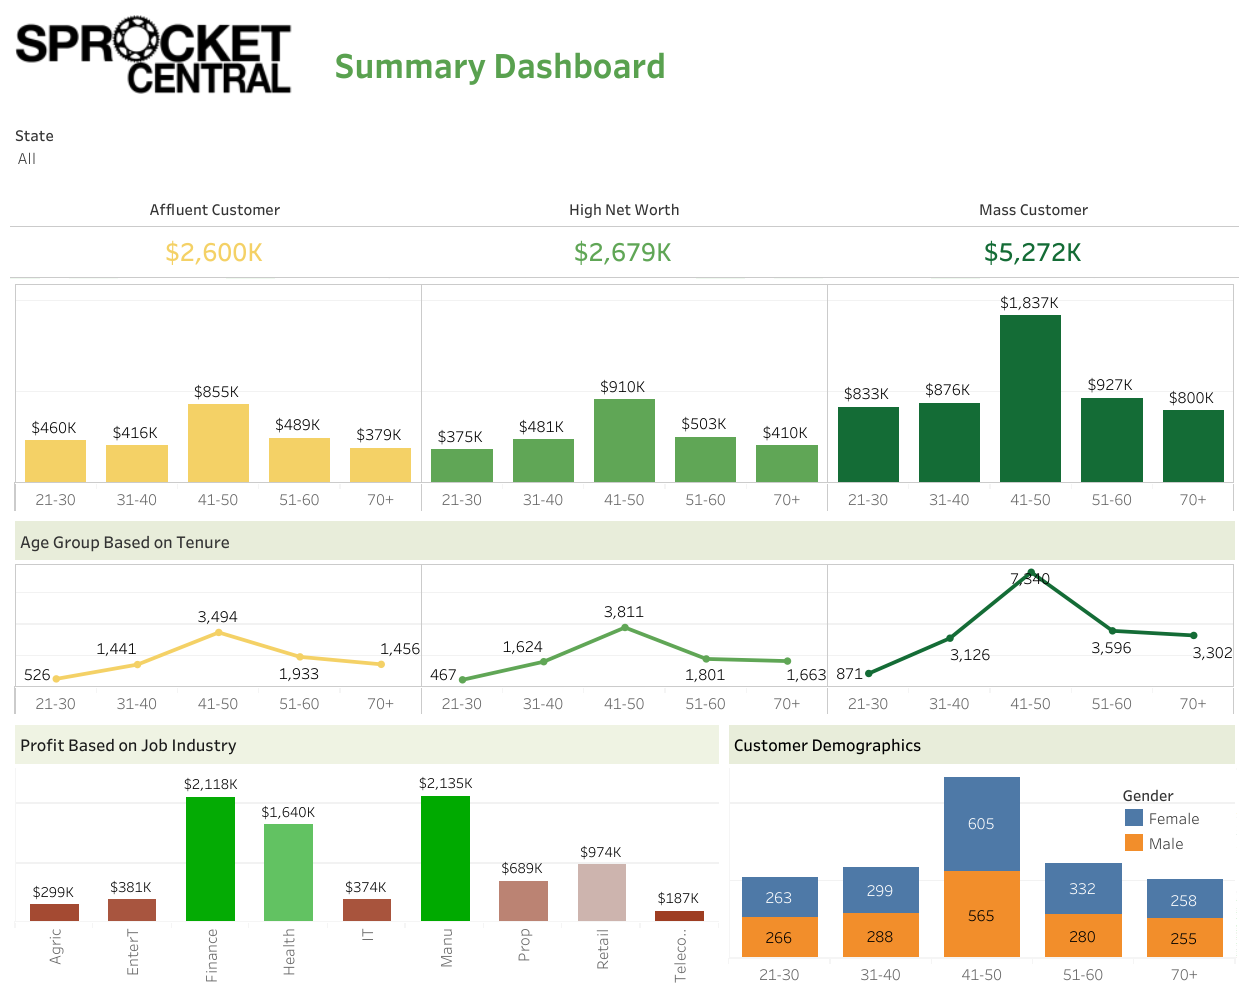

The page's visual inventory and layout, read from the dashboard file:
{"tool":"tableau","page":{"name":"Profit Segment","canvas":[1000,800],"ordinal":0},"visuals":[{"type":"image","param":"Image/sprocket_central_logo.png","box":[8,8,253,86]},{"type":"text","box":[261,8,731,86]},{"type":"filter","title":"Age_Profit","param":"[federated.0kwn4gu1na7a9k17bu9hw1k1b898].[none:state:nk]","box":[8,94,984,59]},{"type":"worksheet","title":"Profit_wealth_segment","mark":"Automatic","cols":["wealth_segment"],"box":[8,153,984,70]},{"type":"worksheet","title":"Age_Profit","mark":"Automatic","rows":["margin_gain"],"cols":["wealth_segment","Calculation_26177195680997376"],"box":[8,223,984,190]},{"type":"worksheet","title":"Age_tenure","mark":"Line","rows":["tenure"],"cols":["wealth_segment","Calculation_26177195680997376"],"box":[8,413,984,163.1]},{"type":"worksheet","title":"Job industry Profit","mark":"Bar","rows":["margin_gain"],"cols":["job_industry_category"],"box":[8,576.1,571,215.9]},{"type":"worksheet","title":"demographic","mark":"Automatic","rows":["Sheet1_8753D7713A3C4724B38272F5CA843F65"],"cols":["Calculation_26177195680997376"],"box":[579,576.1,413,215.9]},{"type":"legend","title":"demographic","param":"[federated.0kwn4gu1na7a9k17bu9hw1k1b898].[none:gender:nk]","box":[897,625,91,64]}]}

Visuals, with their boxes in screenshot pixels (x1, y1, x2, y2), scaled from the page's 1000x800 canvas onto the 1249x999 screenshot:
image: bbox=(10, 10, 326, 117)
text: bbox=(326, 10, 1239, 117)
"Age_Profit" filter: bbox=(10, 117, 1239, 191)
"Profit_wealth_segment" worksheet: bbox=(10, 191, 1239, 278)
"Age_Profit" worksheet: bbox=(10, 278, 1239, 516)
"Age_tenure" worksheet (Line marks): bbox=(10, 516, 1239, 719)
"Job industry Profit" worksheet (Bar marks): bbox=(10, 719, 723, 989)
"demographic" worksheet: bbox=(723, 719, 1239, 989)
"demographic" legend: bbox=(1120, 780, 1234, 860)
